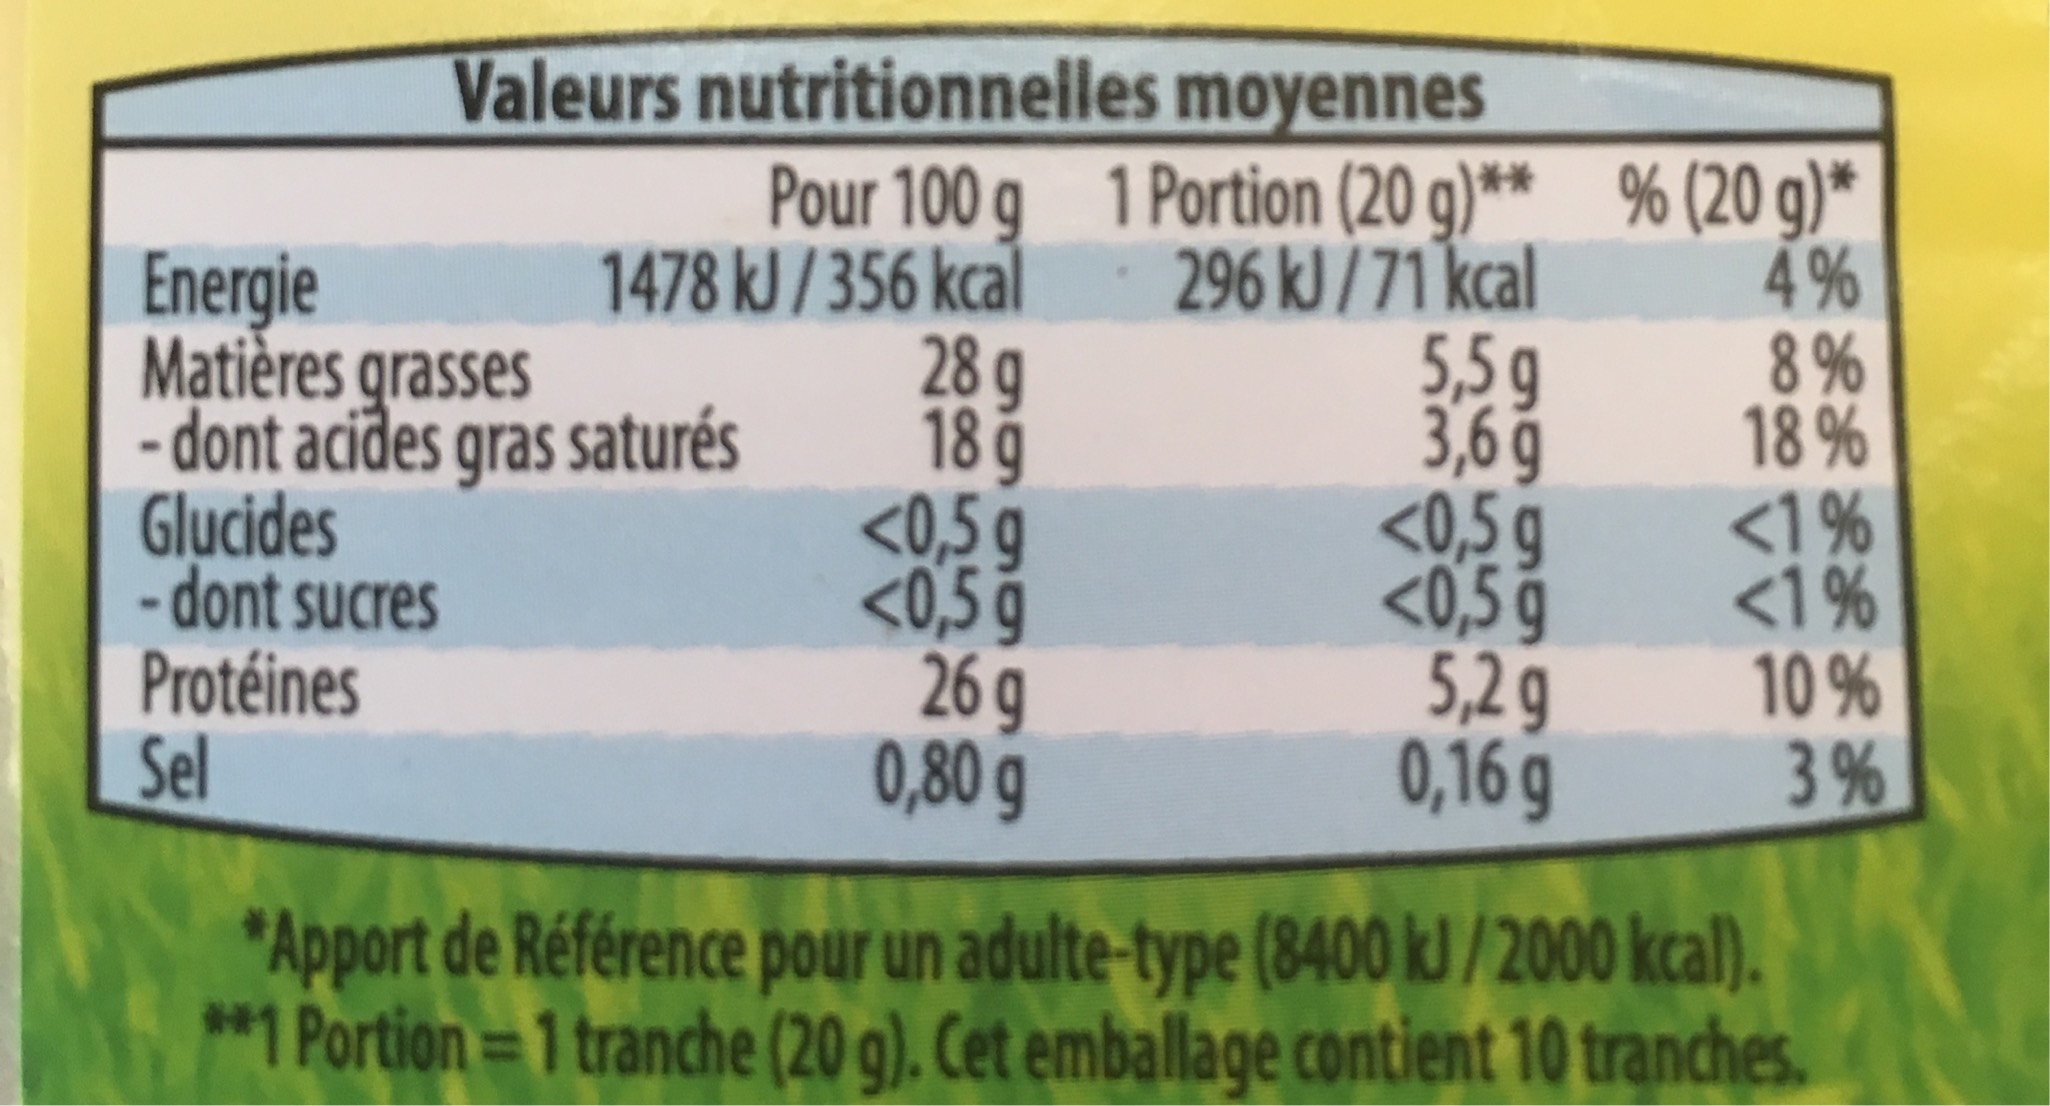column: (127, 139, 1032, 881), (1099, 138, 1553, 879), (1614, 131, 1891, 879)
table: (89, 25, 1927, 879)
